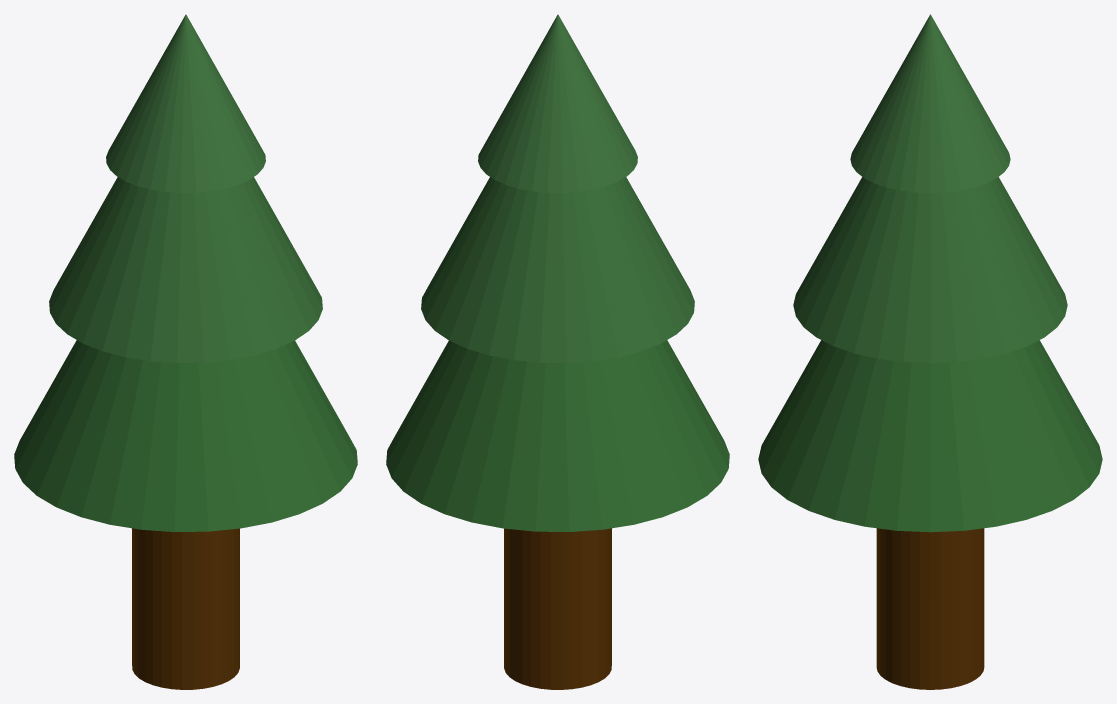
The model's file is _ree.fbx.
3 views of the same model, side by side, from view 1: azimuth 30°, elevation 25°; view 2: azimuth 150°, elevation 25°; view 3: azimuth 270°, elevation 25° (orthographic).
Visible parts, largest first — view 1: 002, 001, tree, 003; view 2: 002, 001, tree, 003; view 3: 002, 001, tree, 003.
Part boxes in pixels (x1,y1,x2,y2): 002: (14, 340, 357, 531); 001: (49, 177, 322, 363); tree: (132, 528, 239, 689); 003: (106, 14, 265, 192); 002: (386, 340, 729, 531); 001: (421, 177, 694, 363); tree: (504, 528, 611, 689); 003: (478, 14, 637, 192); 002: (758, 340, 1102, 532); 001: (793, 177, 1067, 363); tree: (876, 528, 984, 689); 003: (850, 14, 1010, 192).
Bounding box in the file's own units: 347 × 726 × 347.
